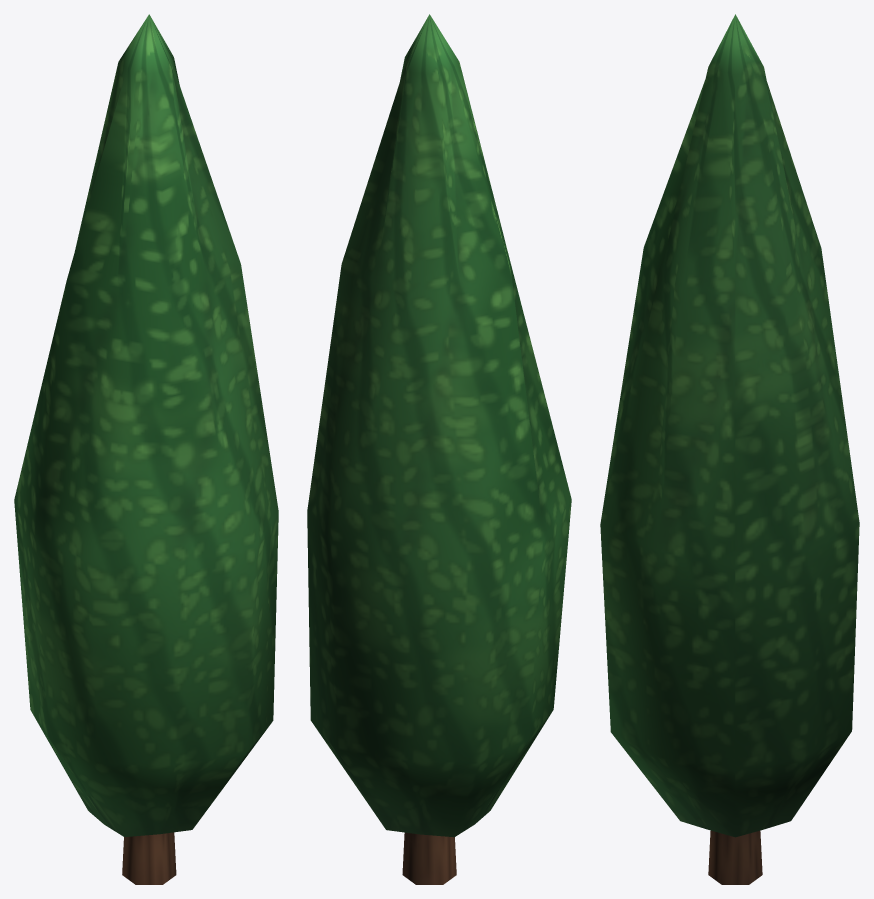
File: cypress_tree.obj
3 views of the same model, side by side, from view 1: azimuth 30°, elevation 25°; view 2: azimuth 150°, elevation 25°; view 3: azimuth 270°, elevation 25° (orthographic).
Parts seen in each view (by area): view 1: CypressTree; view 2: CypressTree; view 3: CypressTree.
Boxes of the visible parts, x1,y1,x2,y2 form: CypressTree: [14, 14, 278, 884]; CypressTree: [307, 14, 571, 884]; CypressTree: [600, 14, 859, 884].
Bounding box in the file's own units: 1.96 × 7 × 1.91.
Materials: 1 (1 with a texture image).
